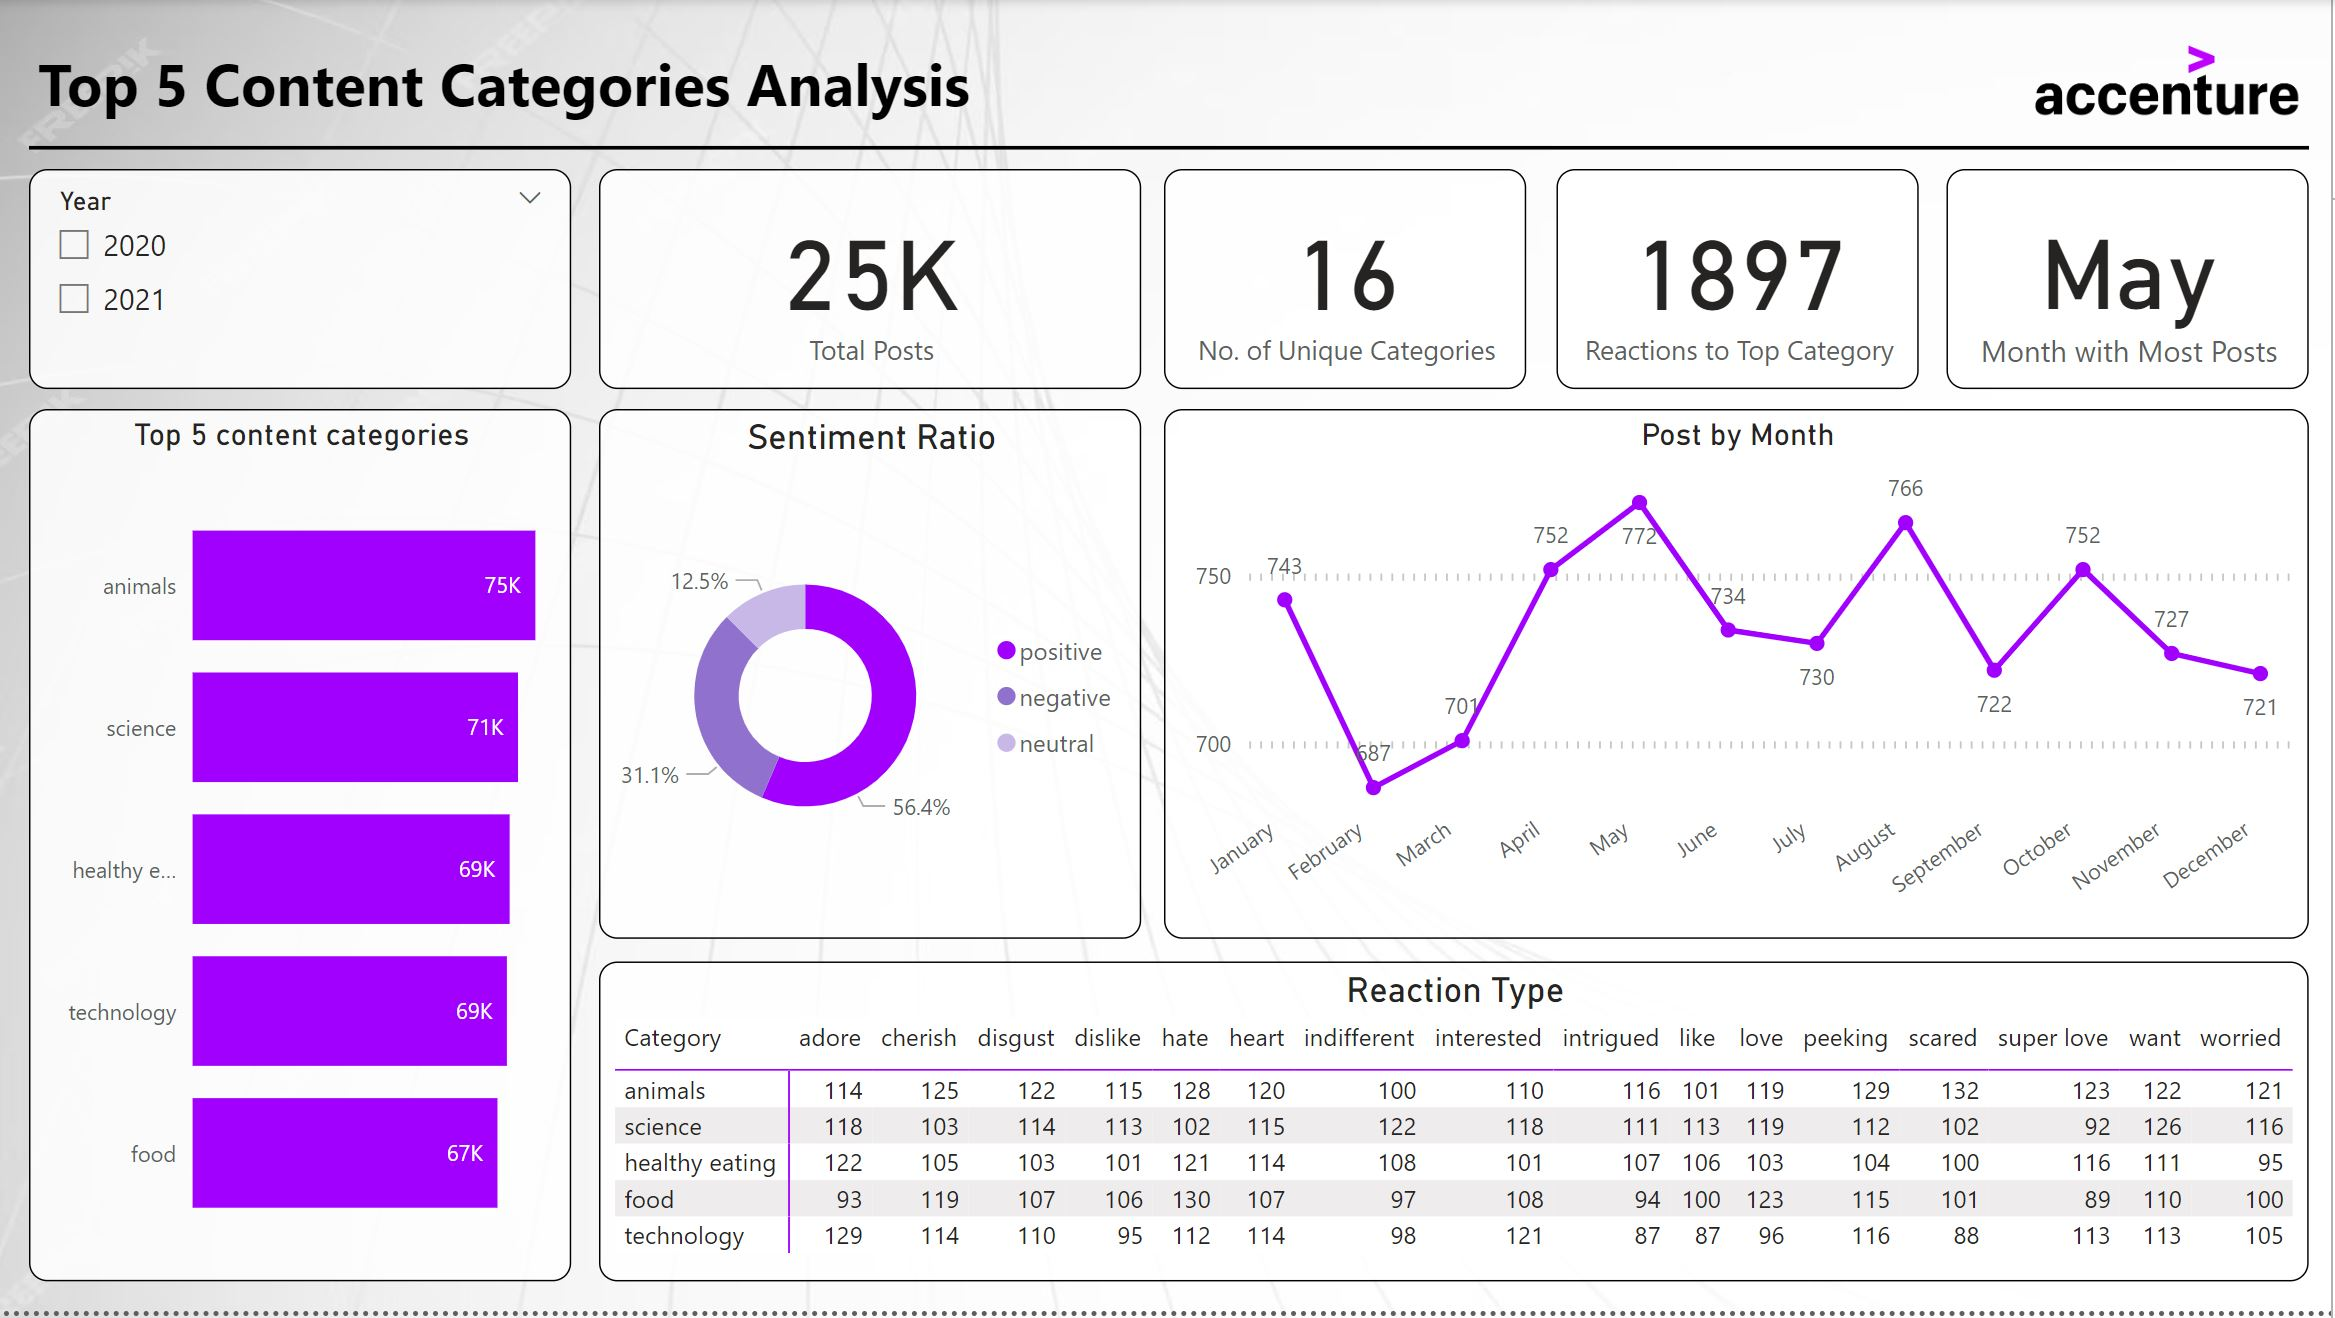

The page's visual inventory and layout, read from the dashboard file:
{"tool":"powerbi","page":{"name":"Page 1","canvas":[1280,720],"ordinal":0},"visuals":[{"type":"barChart","title":"Top 5 content categories","fields":{"Category":["Summary_Table.Category"],"Y":["Sum(Summary_Table.Total Score)"]},"box":[16.5,225,297.8,478.9],"z":0},{"type":"lineChart","title":"Post by Month","fields":{"Category":["Summary_Table.Datetime.Variation.Date Hierarchy.Month"],"Y":["Sum(Summary_Table.Post Count)"]},"box":[639.5,225,628.5,290.9],"z":1000},{"type":"slicer","fields":{"Values":["Summary_Table.Datetime.Variation.Date Hierarchy.Year"]},"box":[16.5,93.3,297.8,120.8],"z":2000},{"type":"donutChart","title":"Sentiment Ratio","fields":{"Category":["Summary_Table.Sentiment"],"Y":["Sum(Summary_Table.Post Count)"]},"box":[329.3,225,297.8,290.9],"z":3000},{"type":"pivotTable","title":"Reaction Type","fields":{"Rows":["Summary_Table.Category"],"Columns":["Summary_Table.Reaction Type"],"Values":["Sum(Summary_Table.Post Count)"]},"box":[329.3,528.3,938.6,175.6],"z":4000},{"type":"card","fields":{"Values":["Sum(Summary_Table.Post Count)"]},"box":[329.3,93.3,297.8,120.8],"z":5000},{"type":"card","fields":{"Values":["Count(Summary_Table.Category)"]},"box":[639.5,93.3,199,120.8],"z":6000},{"type":"card","fields":{"Values":["CountNonNull(Summary_Table.Reaction Type)"]},"box":[854.9,93.3,199,120.8],"z":7000},{"type":"card","fields":{"Values":["Summary_Table.HighestPostCountMonth"]},"box":[1069,93.3,199,120.8],"z":8000},{"type":"image","box":[1111.5,9.6,156.4,70],"z":9000},{"type":"shape","box":[16.5,70,1251.5,23.3],"z":10000},{"type":"textbox","box":[16.5,19.2,532.4,53.5],"z":11000}]}

Visuals, with their boxes in screenshot pixels (x1, y1, x2, y2), scaled from the page's 1280x720 canvas onto the 2335x1318 screenshot:
"Top 5 content categories" barChart: <region>30, 412, 573, 1289</region>
"Post by Month" lineChart: <region>1167, 412, 2313, 944</region>
slicer - Summary_Table.Datetime.Variation.Date Hierarchy.Year: <region>30, 171, 573, 392</region>
"Sentiment Ratio" donutChart: <region>601, 412, 1144, 944</region>
"Reaction Type" pivotTable: <region>601, 967, 2313, 1289</region>
card - Sum(Summary_Table.Post Count): <region>601, 171, 1144, 392</region>
card - Count(Summary_Table.Category): <region>1167, 171, 1530, 392</region>
card - CountNonNull(Summary_Table.Reaction Type): <region>1560, 171, 1923, 392</region>
card - Summary_Table.HighestPostCountMonth: <region>1950, 171, 2313, 392</region>
image: <region>2028, 18, 2313, 146</region>
shape: <region>30, 128, 2313, 171</region>
textbox: <region>30, 35, 1001, 133</region>
